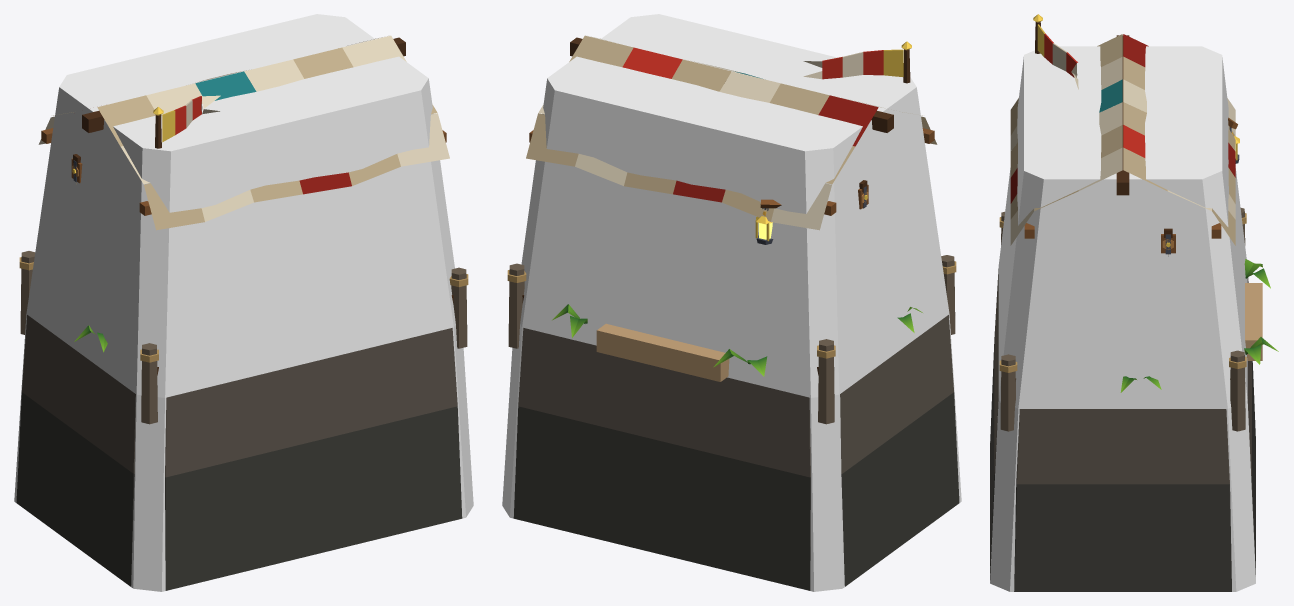
File: pirate_sailmaker_rigging_loft.glb
3 views of the same model, side by side, from view 1: azimuth 30°, elevation 25°; view 2: azimuth 150°, elevation 25°; view 3: azimuth 270°, elevation 25° (orthographic). The views are drawn at different scales.
Visible parts, largest first — view 1: col_sailmaker_base, pirate_sailmaker_rigging_loft; view 2: col_sailmaker_base, pirate_sailmaker_rigging_loft; view 3: col_sailmaker_base, pirate_sailmaker_rigging_loft.
Boxes of the visible parts, box(x1,y1,x2,y2) form: col_sailmaker_base: box(14, 14, 473, 591); pirate_sailmaker_rigging_loft: box(16, 35, 468, 590); col_sailmaker_base: box(502, 14, 961, 591); pirate_sailmaker_rigging_loft: box(507, 35, 959, 590); col_sailmaker_base: box(990, 46, 1255, 591); pirate_sailmaker_rigging_loft: box(990, 14, 1278, 591).
Bounding box in the file's own units: 5.44 × 6.84 × 4.1.
